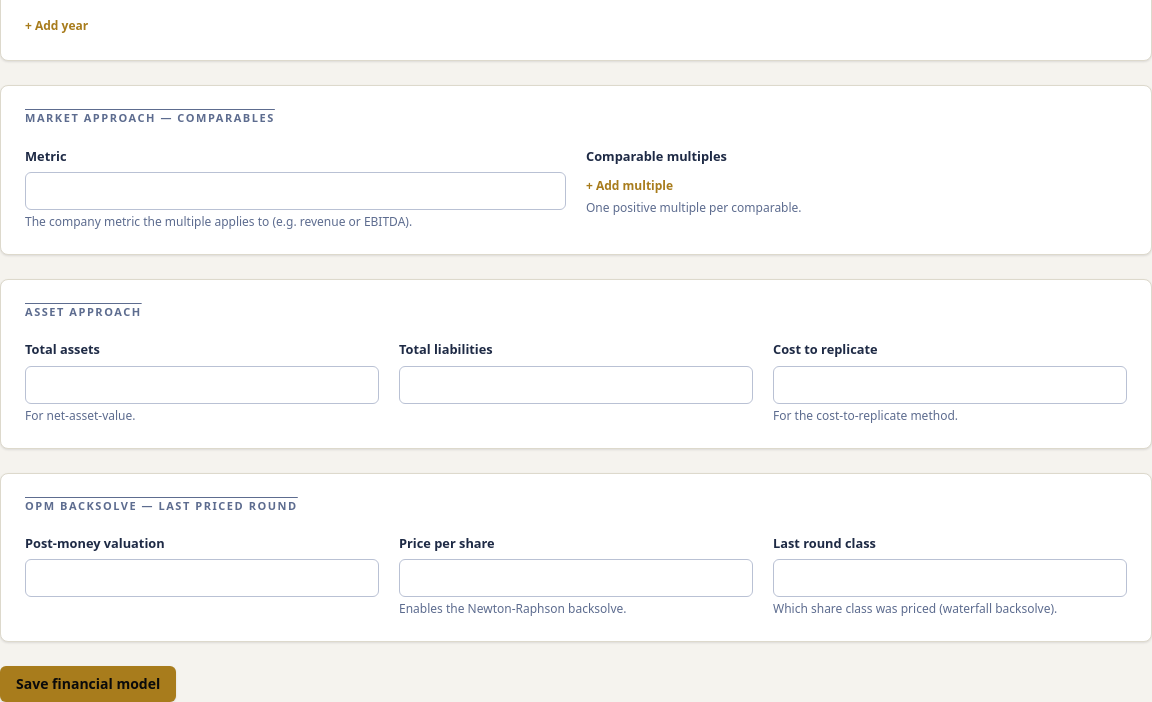
Test: FinancialModelPanel — concurrent editors › reports a conflict in the words the server used
The image size is (1152, 702).
(page scrolled)
Click the button "Save financial model".
click(88, 684)  # box [0,666,176,701]
(page scrolled)
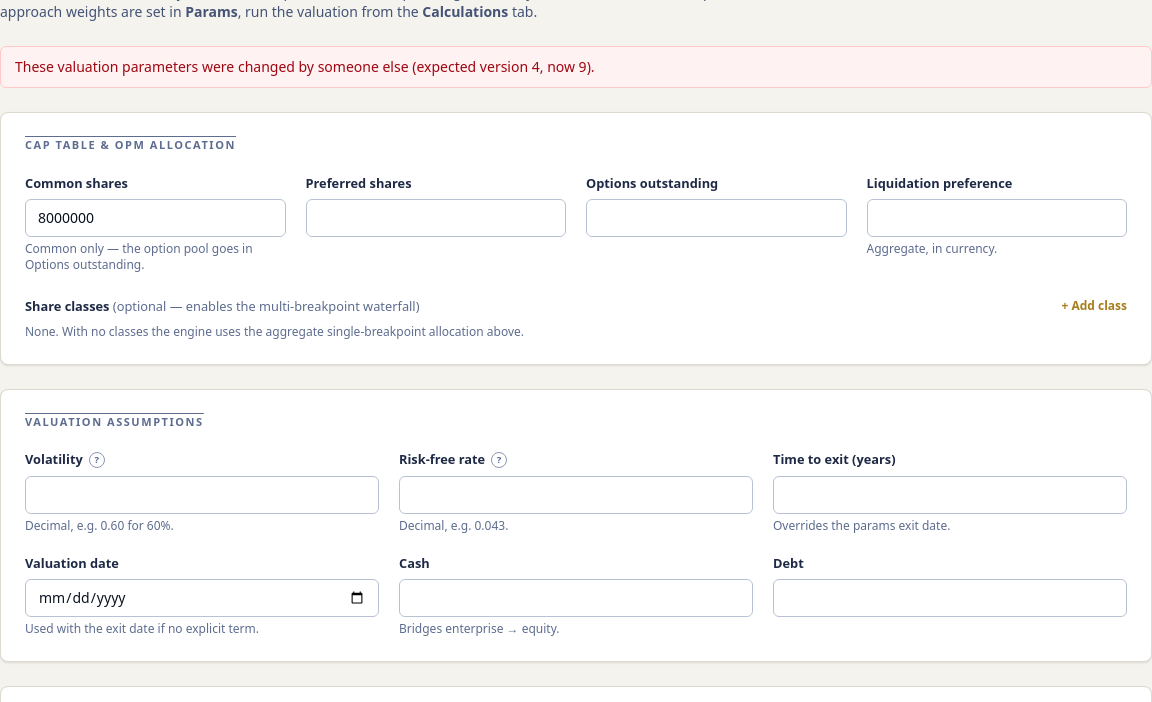
Result: the text "changed by someone else" is shown at [15,57,595,76]
